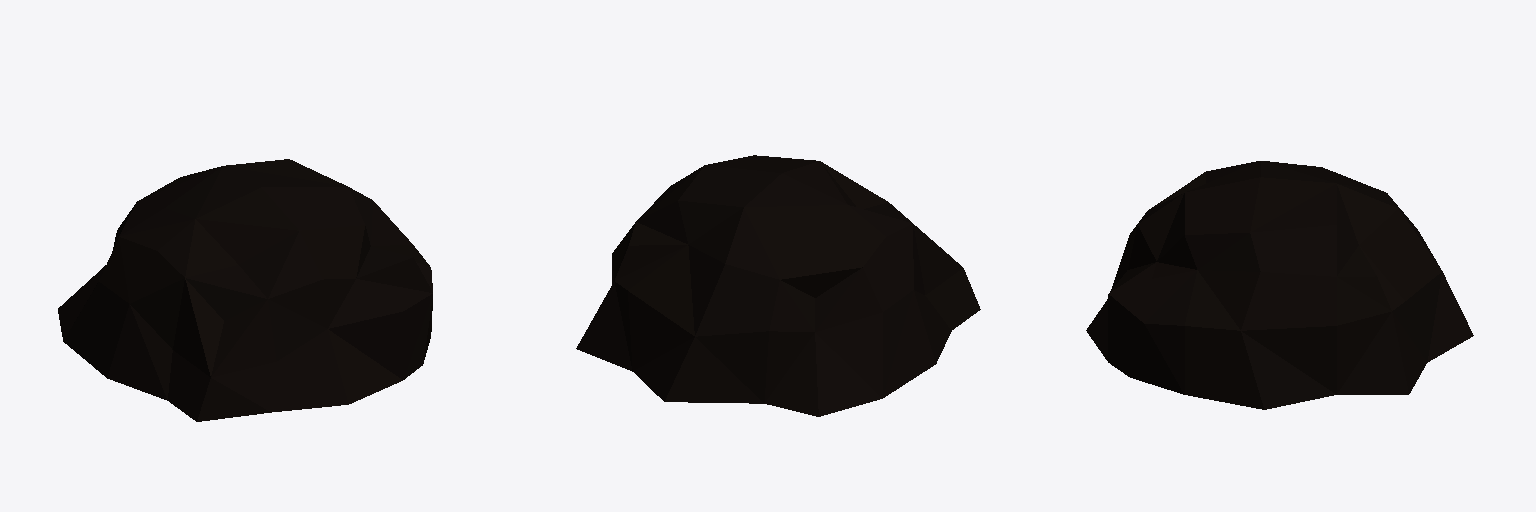
Rendered from Rocky.obj.
3 renders of one model, left to right at view 1: azimuth 30°, elevation 25°; view 2: azimuth 150°, elevation 25°; view 3: azimuth 270°, elevation 25°, orthographic.
Parts seen in each view (by area): view 1: pCube1; view 2: pCube1; view 3: pCube1.
Part boxes in pixels (x1,y1,x2,y2): pCube1: (58,159,432,421); pCube1: (576,155,980,416); pCube1: (1086,161,1473,409).
Bounding box in the file's own units: 2.19 × 1.01 × 2.33.